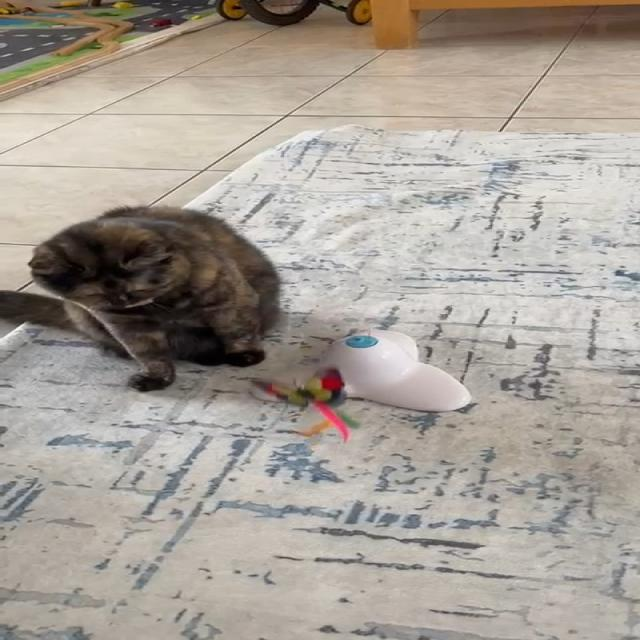authorized: (0, 203, 283, 391)
